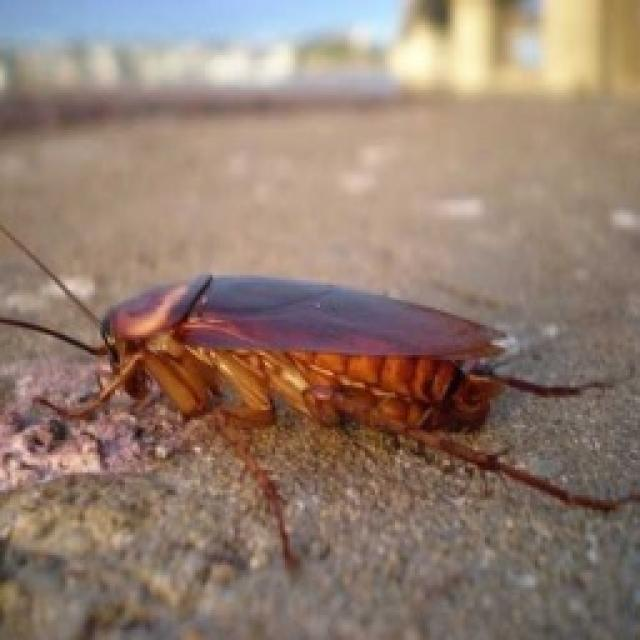cockroach: (2, 213, 637, 576)
